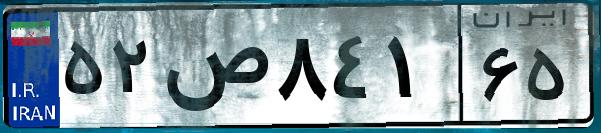1: (385, 28, 445, 110)
2: (110, 28, 158, 98)
4: (330, 28, 385, 110)
5: (57, 26, 110, 100), (525, 38, 570, 115)
6: (475, 38, 525, 113)
8: (270, 28, 330, 110)
ص: (158, 20, 270, 120)
